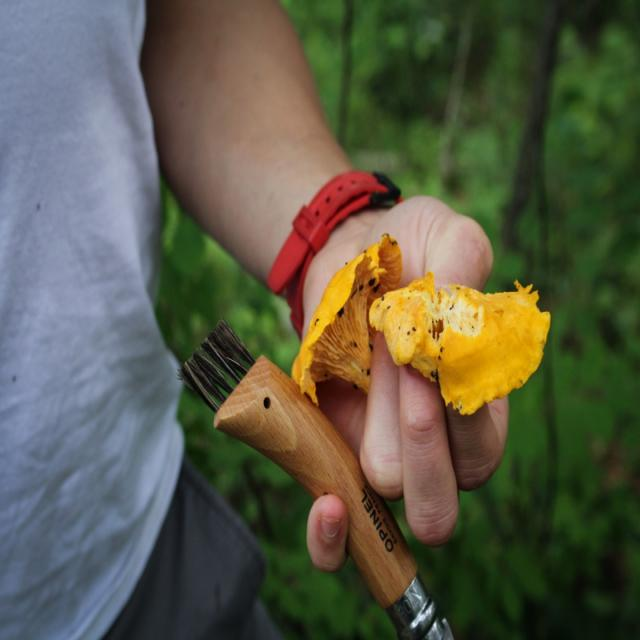chanterelle: (369, 274, 552, 418), (291, 234, 407, 407)
